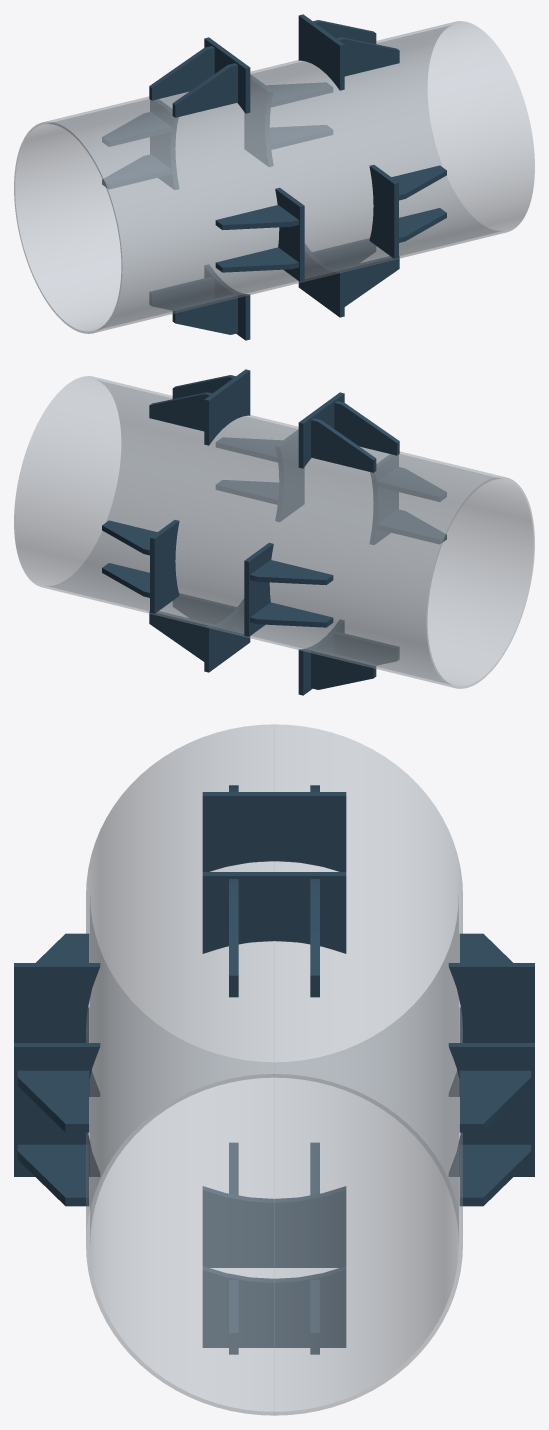
The model's file is TS-661.00.00-08-opora-dn630-ris1.glb.
3 views of the same model, one above another, from view 1: azimuth 30°, elevation 25°; view 2: azimuth 150°, elevation 25°; view 3: azimuth 270°, elevation 25° (orthographic). The views are drawn at different scales.
Parts seen in each view (by area): view 1: truba, upor_7, upor_1, upor_6, upor_19, upor_17, upor_13, upor_5, upor_10, upor_14, upor_3, upor_22 (+13 smaller); view 2: truba, upor_19, upor_1, upor_5, upor_7, upor_18, upor_13, upor_6, upor_22, upor_15, upor_2, upor_10 (+13 smaller); view 3: truba, upor_4, upor_16, upor_1, upor_13, upor_10, upor_22, upor_7, upor_19, upor_8, upor_21, upor_9 (+5 smaller).
Part boxes in pixels (x1=…): truba: x1=14, y1=21, x2=534, y2=333; upor_7: x1=369, y1=165, x2=398, y2=258; upor_1: x1=298, y1=14, x2=344, y2=90; upor_6: x1=172, y1=63, x2=237, y2=117; upor_19: x1=244, y1=75, x2=273, y2=166; upor_17: x1=172, y1=294, x2=237, y2=334; upor_13: x1=298, y1=244, x2=344, y2=317; upor_5: x1=149, y1=46, x2=214, y2=100; upor_10: x1=275, y1=187, x2=304, y2=281; upor_14: x1=336, y1=256, x2=399, y2=306; upor_3: x1=336, y1=37, x2=399, y2=76; upor_22: x1=150, y1=99, x2=178, y2=189; truba: x1=14, y1=376, x2=534, y2=688; upor_19: x1=150, y1=520, x2=179, y2=613; upor_1: x1=204, y1=369, x2=250, y2=445; upor_5: x1=311, y1=418, x2=376, y2=472; upor_7: x1=275, y1=430, x2=304, y2=521; upor_18: x1=311, y1=649, x2=376, y2=689; upor_13: x1=204, y1=599, x2=250, y2=672; upor_6: x1=334, y1=401, x2=399, y2=455; upor_22: x1=244, y1=542, x2=273, y2=636; upor_15: x1=149, y1=611, x2=212, y2=661; upor_2: x1=149, y1=392, x2=212, y2=431; upor_10: x1=370, y1=454, x2=398, y2=544; truba: x1=86, y1=724, x2=462, y2=1415; upor_4: x1=202, y1=792, x2=346, y2=871; upor_16: x1=202, y1=1186, x2=346, y2=1267; upor_1: x1=202, y1=872, x2=346, y2=953; upor_13: x1=202, y1=1266, x2=346, y2=1347; upor_10: x1=14, y1=963, x2=100, y2=1096; upor_22: x1=448, y1=963, x2=534, y2=1096; upor_7: x1=14, y1=1043, x2=100, y2=1176; upor_19: x1=448, y1=1043, x2=534, y2=1176; upor_8: x1=17, y1=1070, x2=89, y2=1132; upor_21: x1=459, y1=1070, x2=531, y2=1132; upor_9: x1=17, y1=1144, x2=89, y2=1206.
Bounding box in the file's own units: 1382 × 870 × 870.
